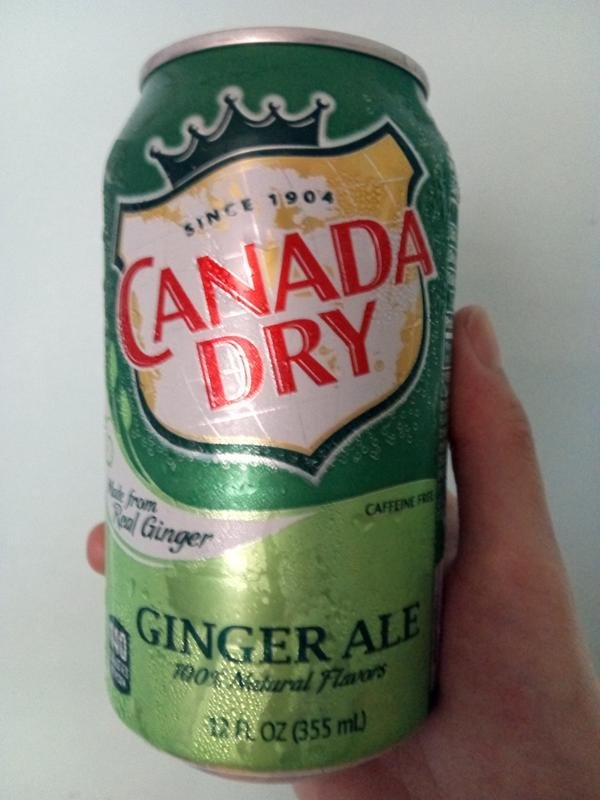Lata: (98, 18, 459, 790)
